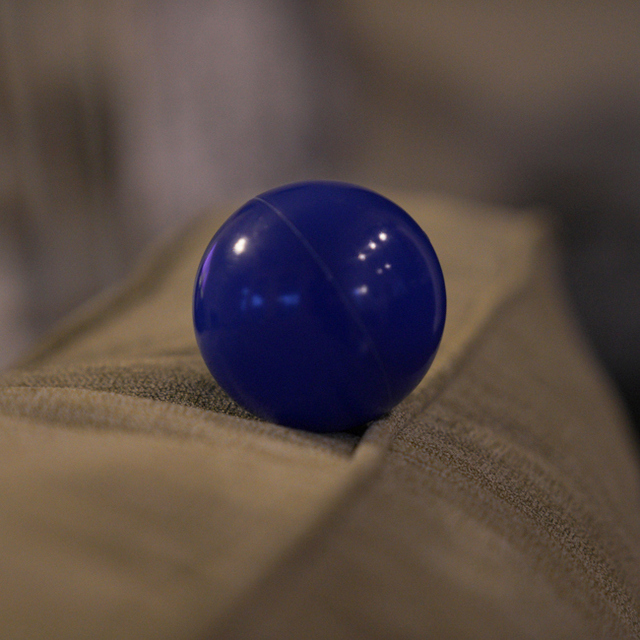Ball: (192, 181, 447, 432)
